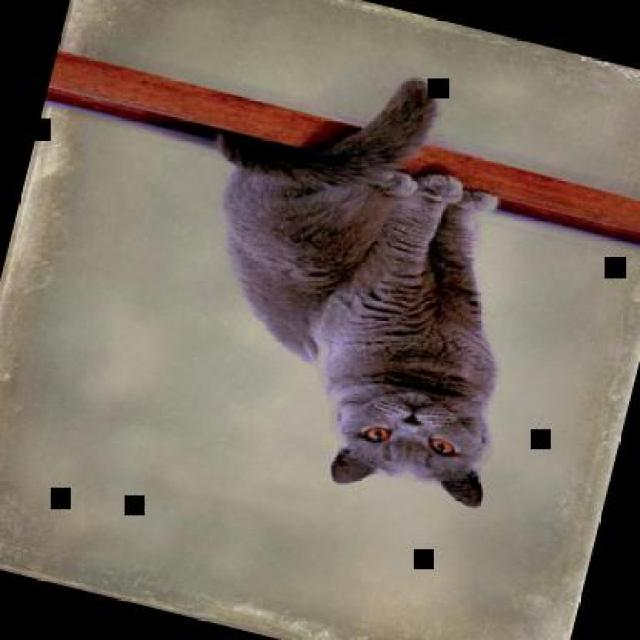cat: (147, 37, 578, 521)
